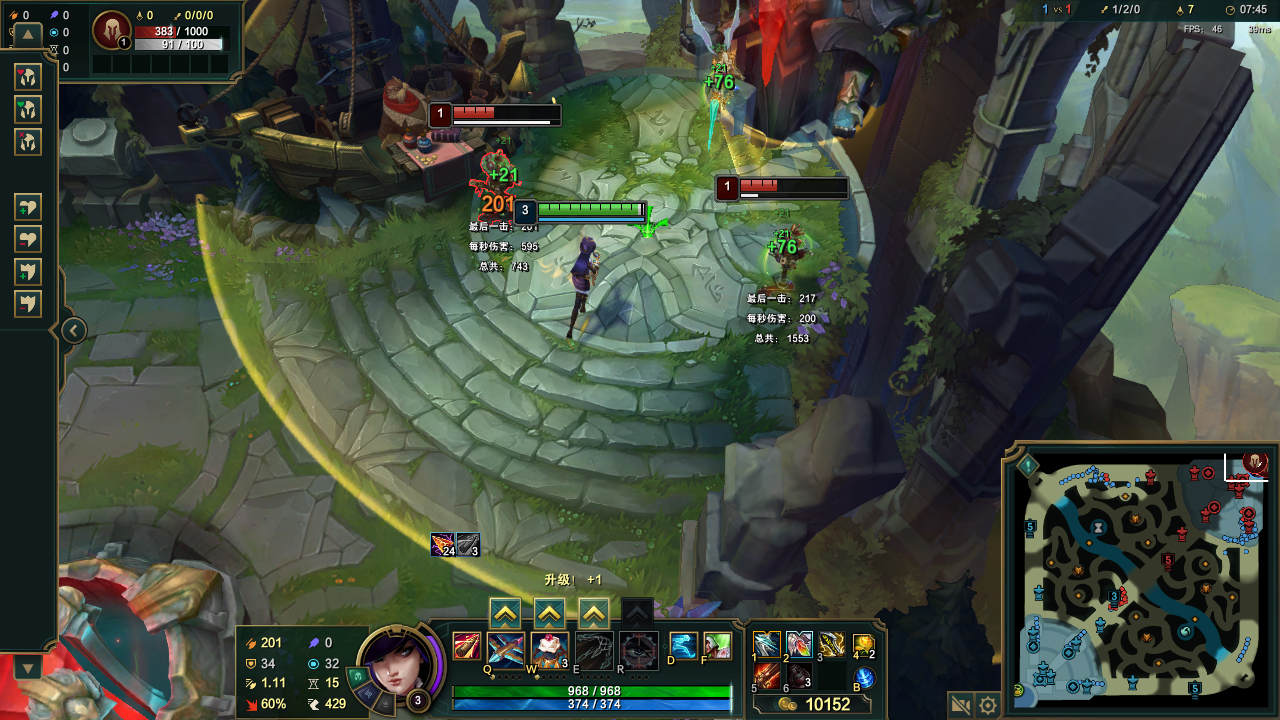DFYX: (736, 177, 849, 192), (450, 105, 560, 118)
